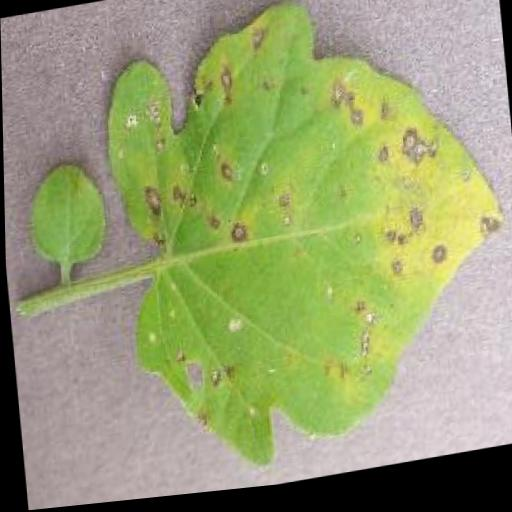Septoria: (93, 0, 512, 486)
